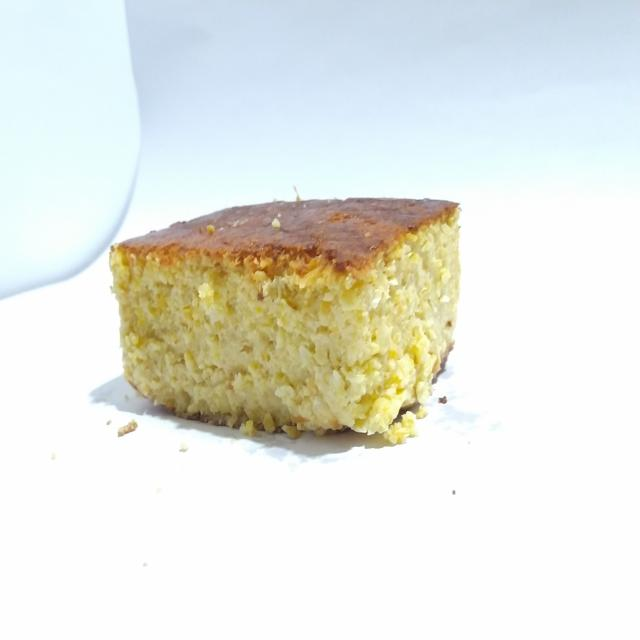Food: (102, 186, 470, 457)
